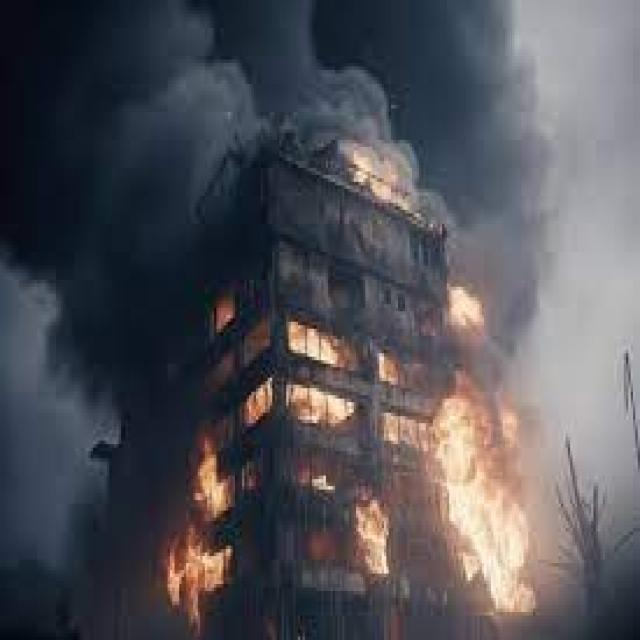Fire: (190, 7, 362, 200), (443, 399, 543, 611), (172, 465, 238, 615), (290, 323, 348, 378), (288, 382, 342, 422), (358, 513, 389, 567)
Smoke: (3, 4, 188, 561), (342, 0, 628, 246)
